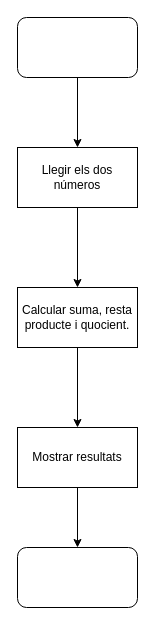
Image size: 155x625. Some labels were removed from this diagram. The centre of each missing label's shape, as x and y in pixels:
Fi: (x=77, y=577)
Inici: (x=77, y=47)
